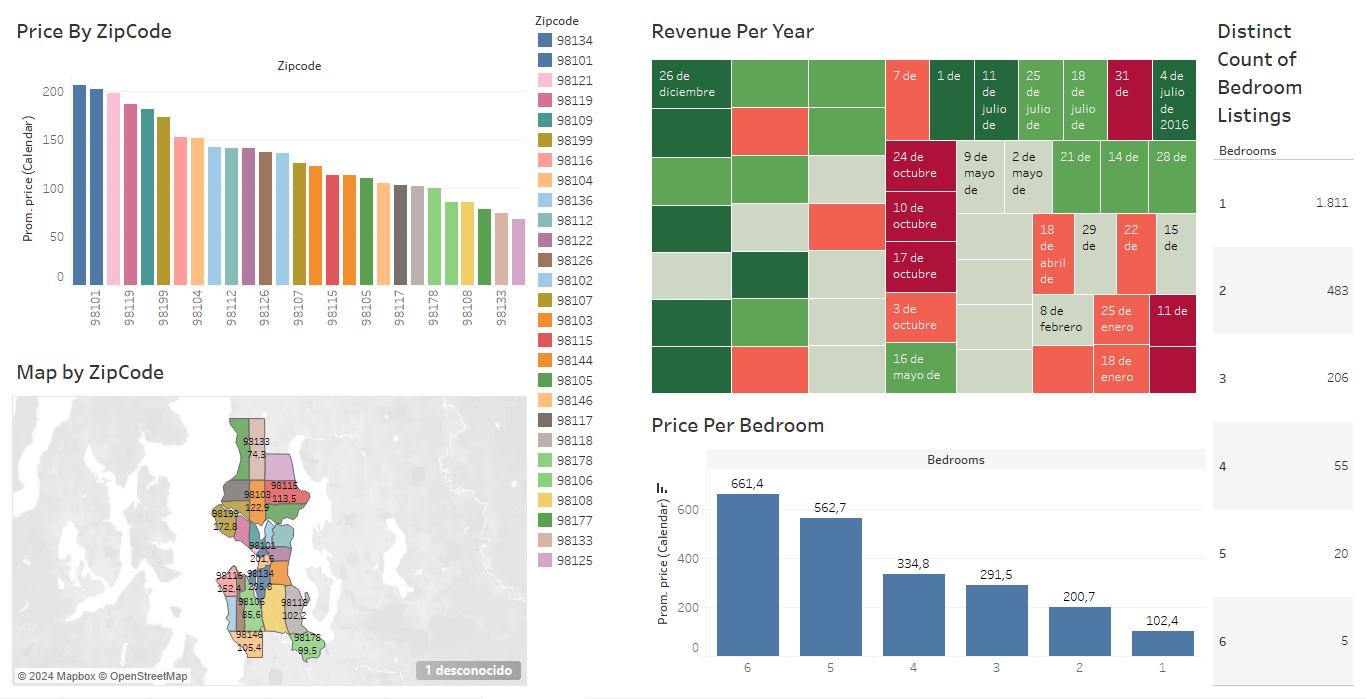

The page's visual inventory and layout, read from the dashboard file:
{"tool":"tableau","page":{"name":"Dashboard 1","canvas":[1000,1000],"units":"permille","ordinal":0},"visuals":[{"type":"worksheet","title":"ZipCode","mark":"Automatic","rows":["price (Calendar)"],"cols":["zipcode"],"box":[6.9,14.7,373.1,485.3]},{"type":"legend","title":"ZipCode","param":"[federated.037wz010dm4eyl10a5seb01m2f70].[none:zipcode:ok]","box":[380.1,14.7,80.1,970.6]},{"type":"worksheet","title":"Revenue Per Year","mark":"Automatic","box":[460.2,14.7,403.9,560.6]},{"type":"worksheet","title":"Distinct Count","mark":"Automatic","rows":["bedrooms"],"box":[864.1,14.7,129,970.6]},{"type":"worksheet","title":"Map ZipCode","mark":"Multipolygon","box":[6.9,500,373.1,485.3]},{"type":"worksheet","title":"Price Per Bedroom","mark":"Automatic","rows":["price (Calendar)"],"cols":["bedrooms"],"box":[460.2,575.3,403.9,410]}]}

Visuals, with their boxes on the dashboard's canvas, which has no fixed pixel size, in thousandths of its width and height (x1, y1, x2, y2). These are canvas units, not pixel positions in the 1366x699 screenshot, which may show the page scaled, cropped or inside an application window:
"ZipCode" worksheet: x1=7, y1=15, x2=380, y2=500
"ZipCode" legend: x1=380, y1=15, x2=460, y2=985
"Revenue Per Year" worksheet: x1=460, y1=15, x2=864, y2=575
"Distinct Count" worksheet: x1=864, y1=15, x2=993, y2=985
"Map ZipCode" worksheet (Multipolygon marks): x1=7, y1=500, x2=380, y2=985
"Price Per Bedroom" worksheet: x1=460, y1=575, x2=864, y2=985
